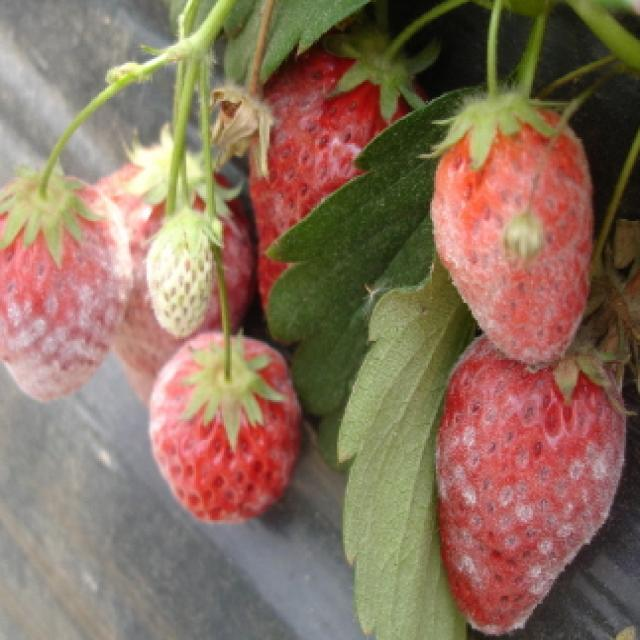Powdery Mildew Fruit: (432, 291, 640, 635), (431, 89, 594, 365), (245, 39, 393, 262), (147, 329, 306, 525), (0, 171, 133, 401), (143, 201, 223, 339)
